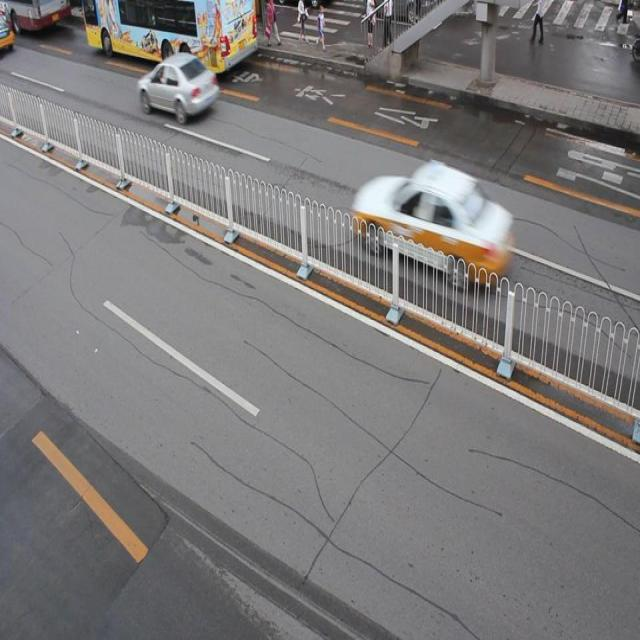car: (353, 161, 513, 285), (137, 52, 219, 122)
van: (82, 1, 256, 74)
